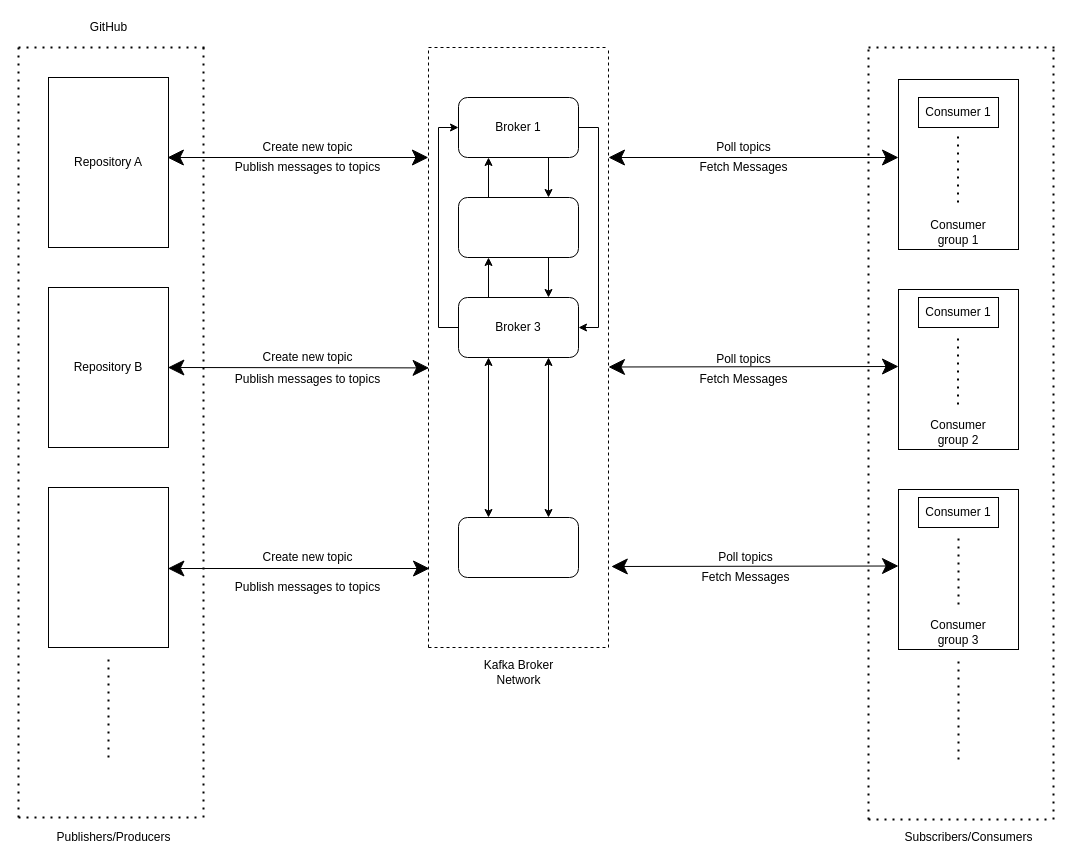
Some shapes in this 1077 by 864 pixel diagram are drawn without their labels. The shapes that lost their labels are listed below. From the top down, each one's centre as x and y in pixels, then its label:
At point (518, 227): "Broker 2".
At point (108, 567): "Repository C".
At point (518, 547): "Zookeeper (Maintains the whole Kafka cluster)".
